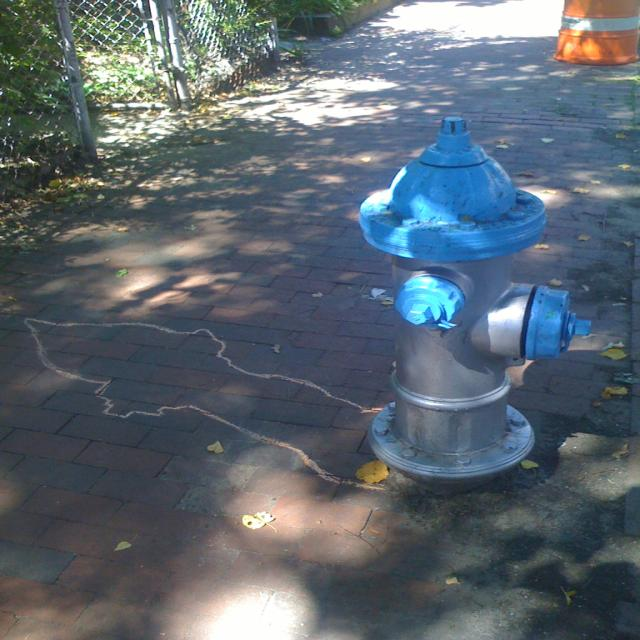fire_hydrant: (358, 116, 596, 478)
